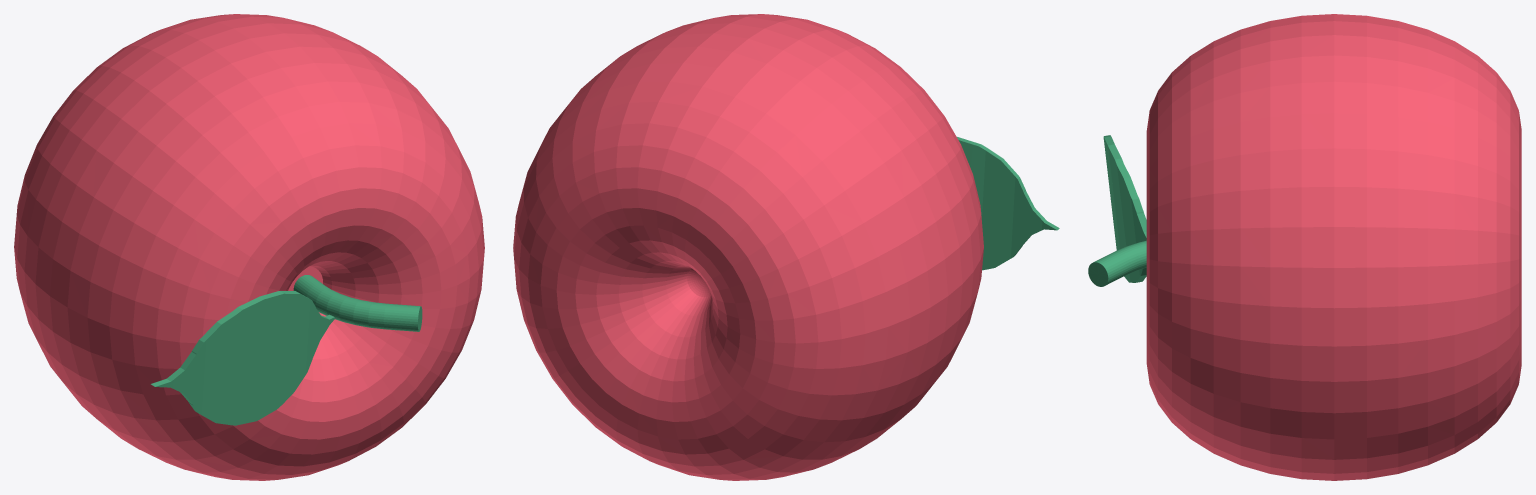
The model's file is AppleRed.glb.
3 renders of one model, left to right at view 1: azimuth 30°, elevation 25°; view 2: azimuth 150°, elevation 25°; view 3: azimuth 270°, elevation 25°, orthographic.
Parts seen in each view (by area): view 1: group_0_15277357, group_0_1206582; view 2: group_0_15277357, group_0_1206582; view 3: group_0_15277357, group_0_1206582.
Part boxes in pixels (x1,y1,x2,y2): group_0_15277357: (14, 14, 484, 480); group_0_1206582: (151, 275, 422, 425); group_0_15277357: (513, 14, 983, 480); group_0_1206582: (957, 137, 1059, 270); group_0_15277357: (1146, 14, 1521, 480); group_0_1206582: (1088, 135, 1146, 286).
Bounding box in the file's own units: 20.22 × 20 × 18.5.
